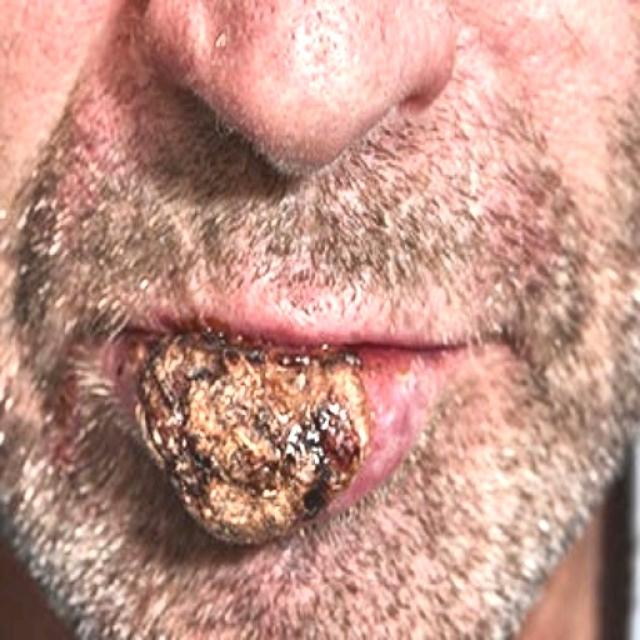cancer-detection: (129, 324, 380, 548)
processing_area: (108, 322, 454, 542)
